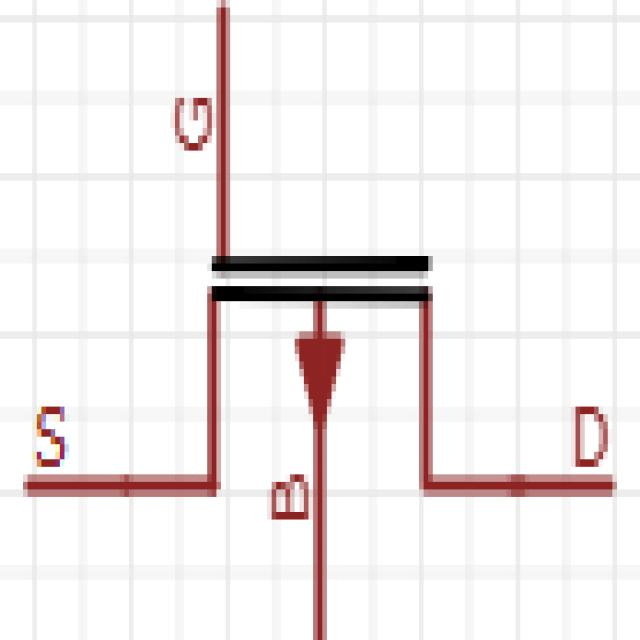pmos: (12, 9, 639, 598)
